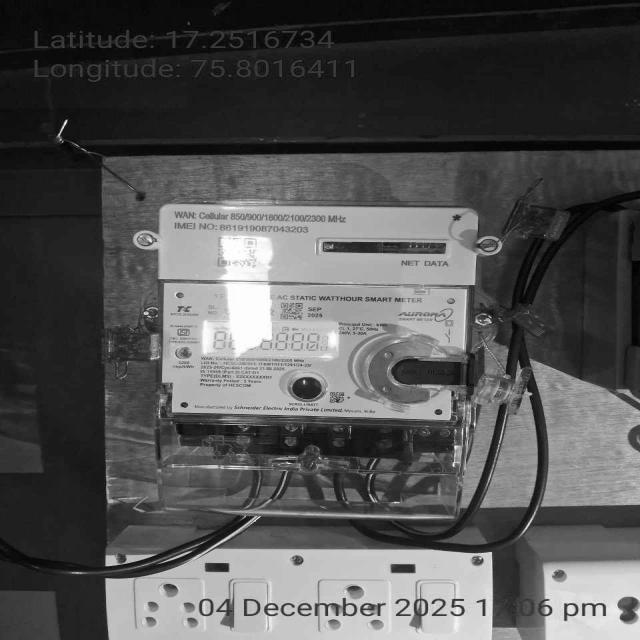meter: (162, 205, 473, 420)
